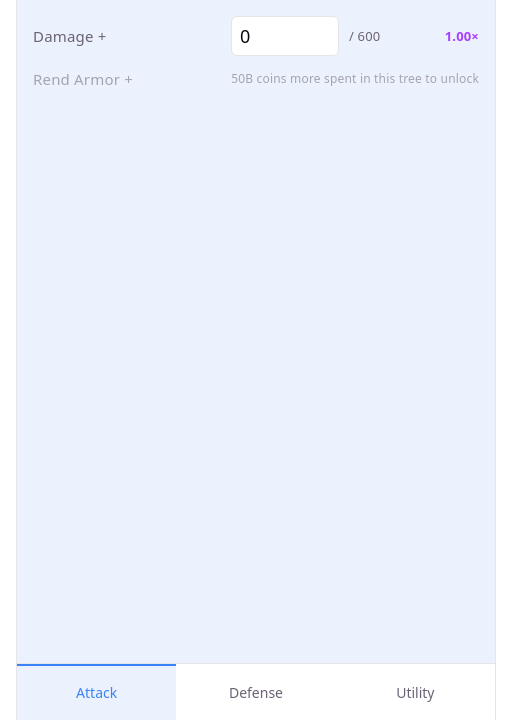
Test: EnhancementInputs › switches to another tree tab on click
Step 1. Click the tab "Defense" → (256, 692), box [176,664,336,719]
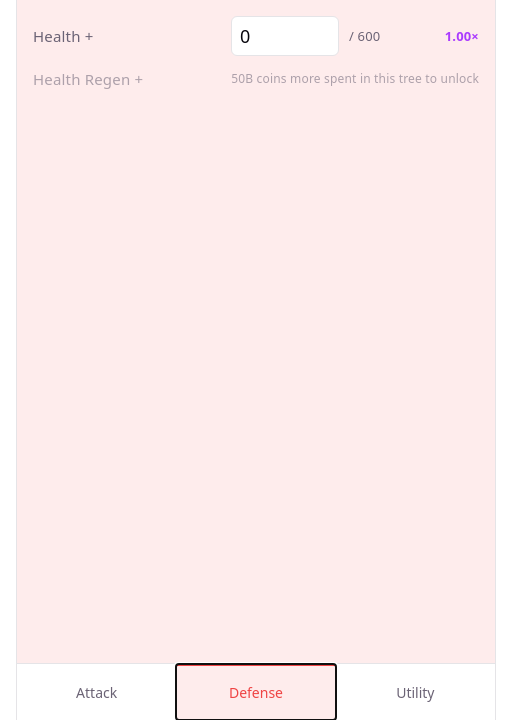
Expected: the number field labelled "Health +" is shown, [231,16,339,56]
Expected: the label labelled "Damage +" is gone
